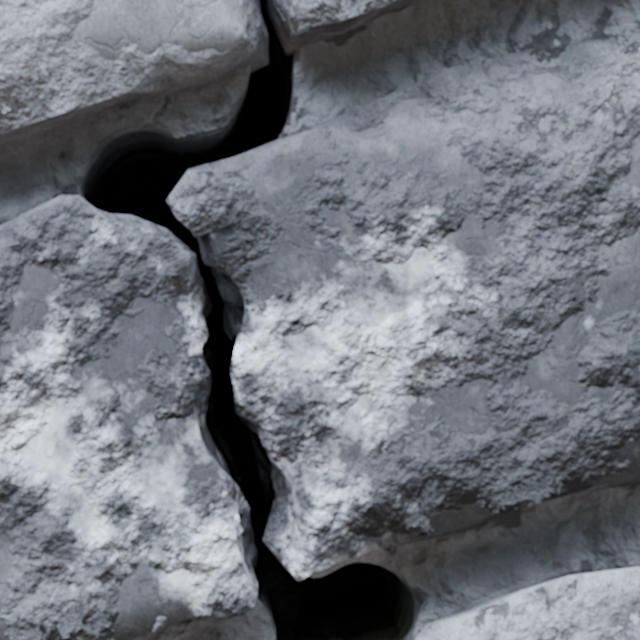broken_brick: (167, 33, 639, 580), (0, 195, 256, 639), (0, 0, 267, 142), (415, 565, 639, 639), (280, 0, 426, 51)
crack: (77, 0, 420, 639)
